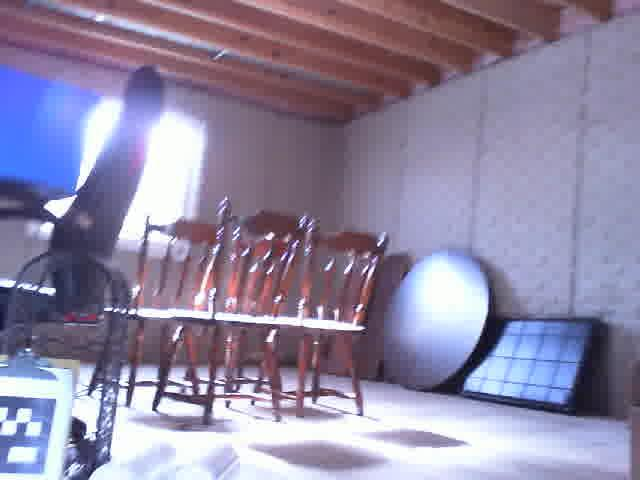coral: (85, 438, 181, 480), (173, 441, 245, 480)
